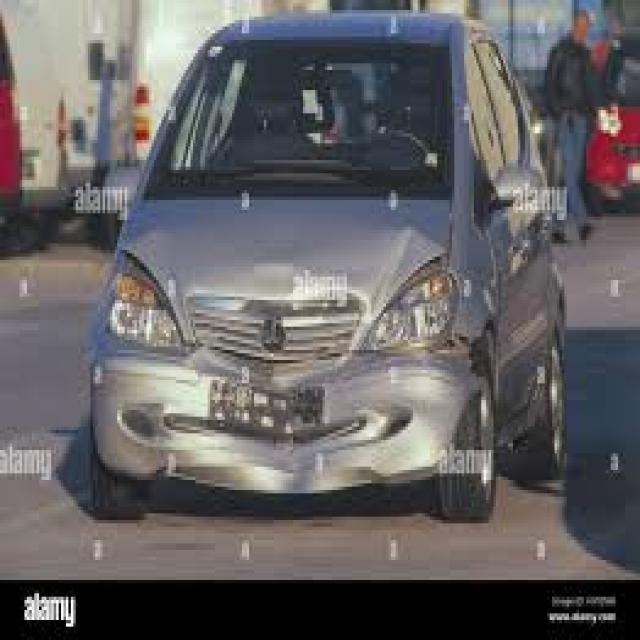minor: (176, 375, 373, 499), (371, 288, 498, 443)
